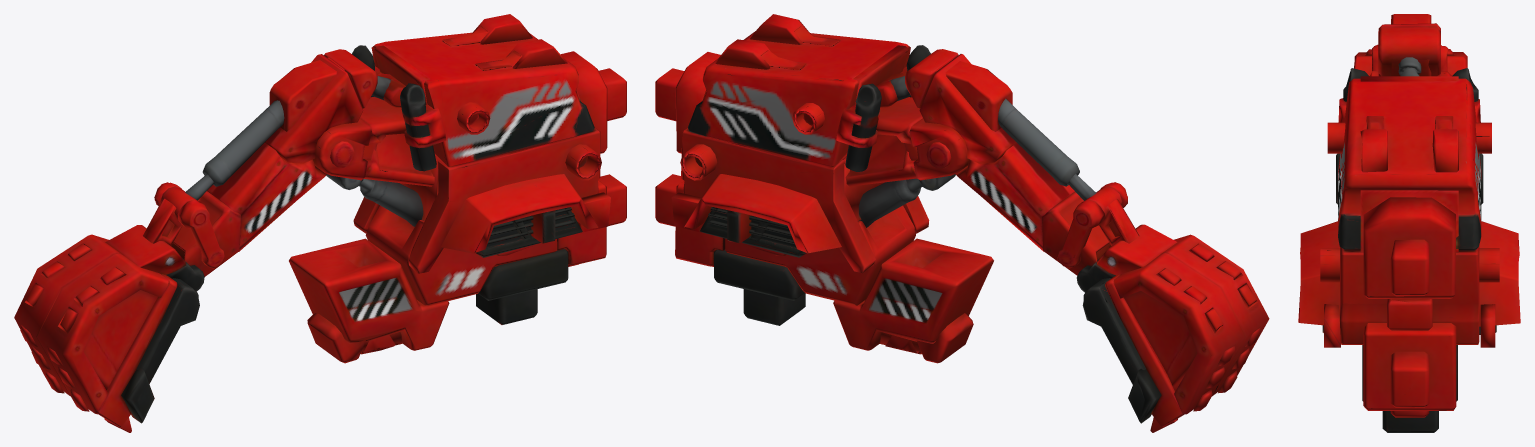
The model's file is Meshy_AI_Red_Excavator_Arm_500_1110171809_texture.fbx.
3 renders of one model, left to right at view 1: azimuth 30°, elevation 25°; view 2: azimuth 150°, elevation 25°; view 3: azimuth 270°, elevation 25°, orthographic. The views are drawn at different scales.
Parts seen in each view (by area): view 1: geometry_0; view 2: geometry_0; view 3: geometry_0.
Part boxes in pixels (x1,y1,x2,y2): geometry_0: (14,14,626,432); geometry_0: (655,14,1269,432); geometry_0: (1298,14,1520,432).
Bounding box in the file's own units: 618 × 300 × 193.
Materials: 1 (1 with a texture image).
